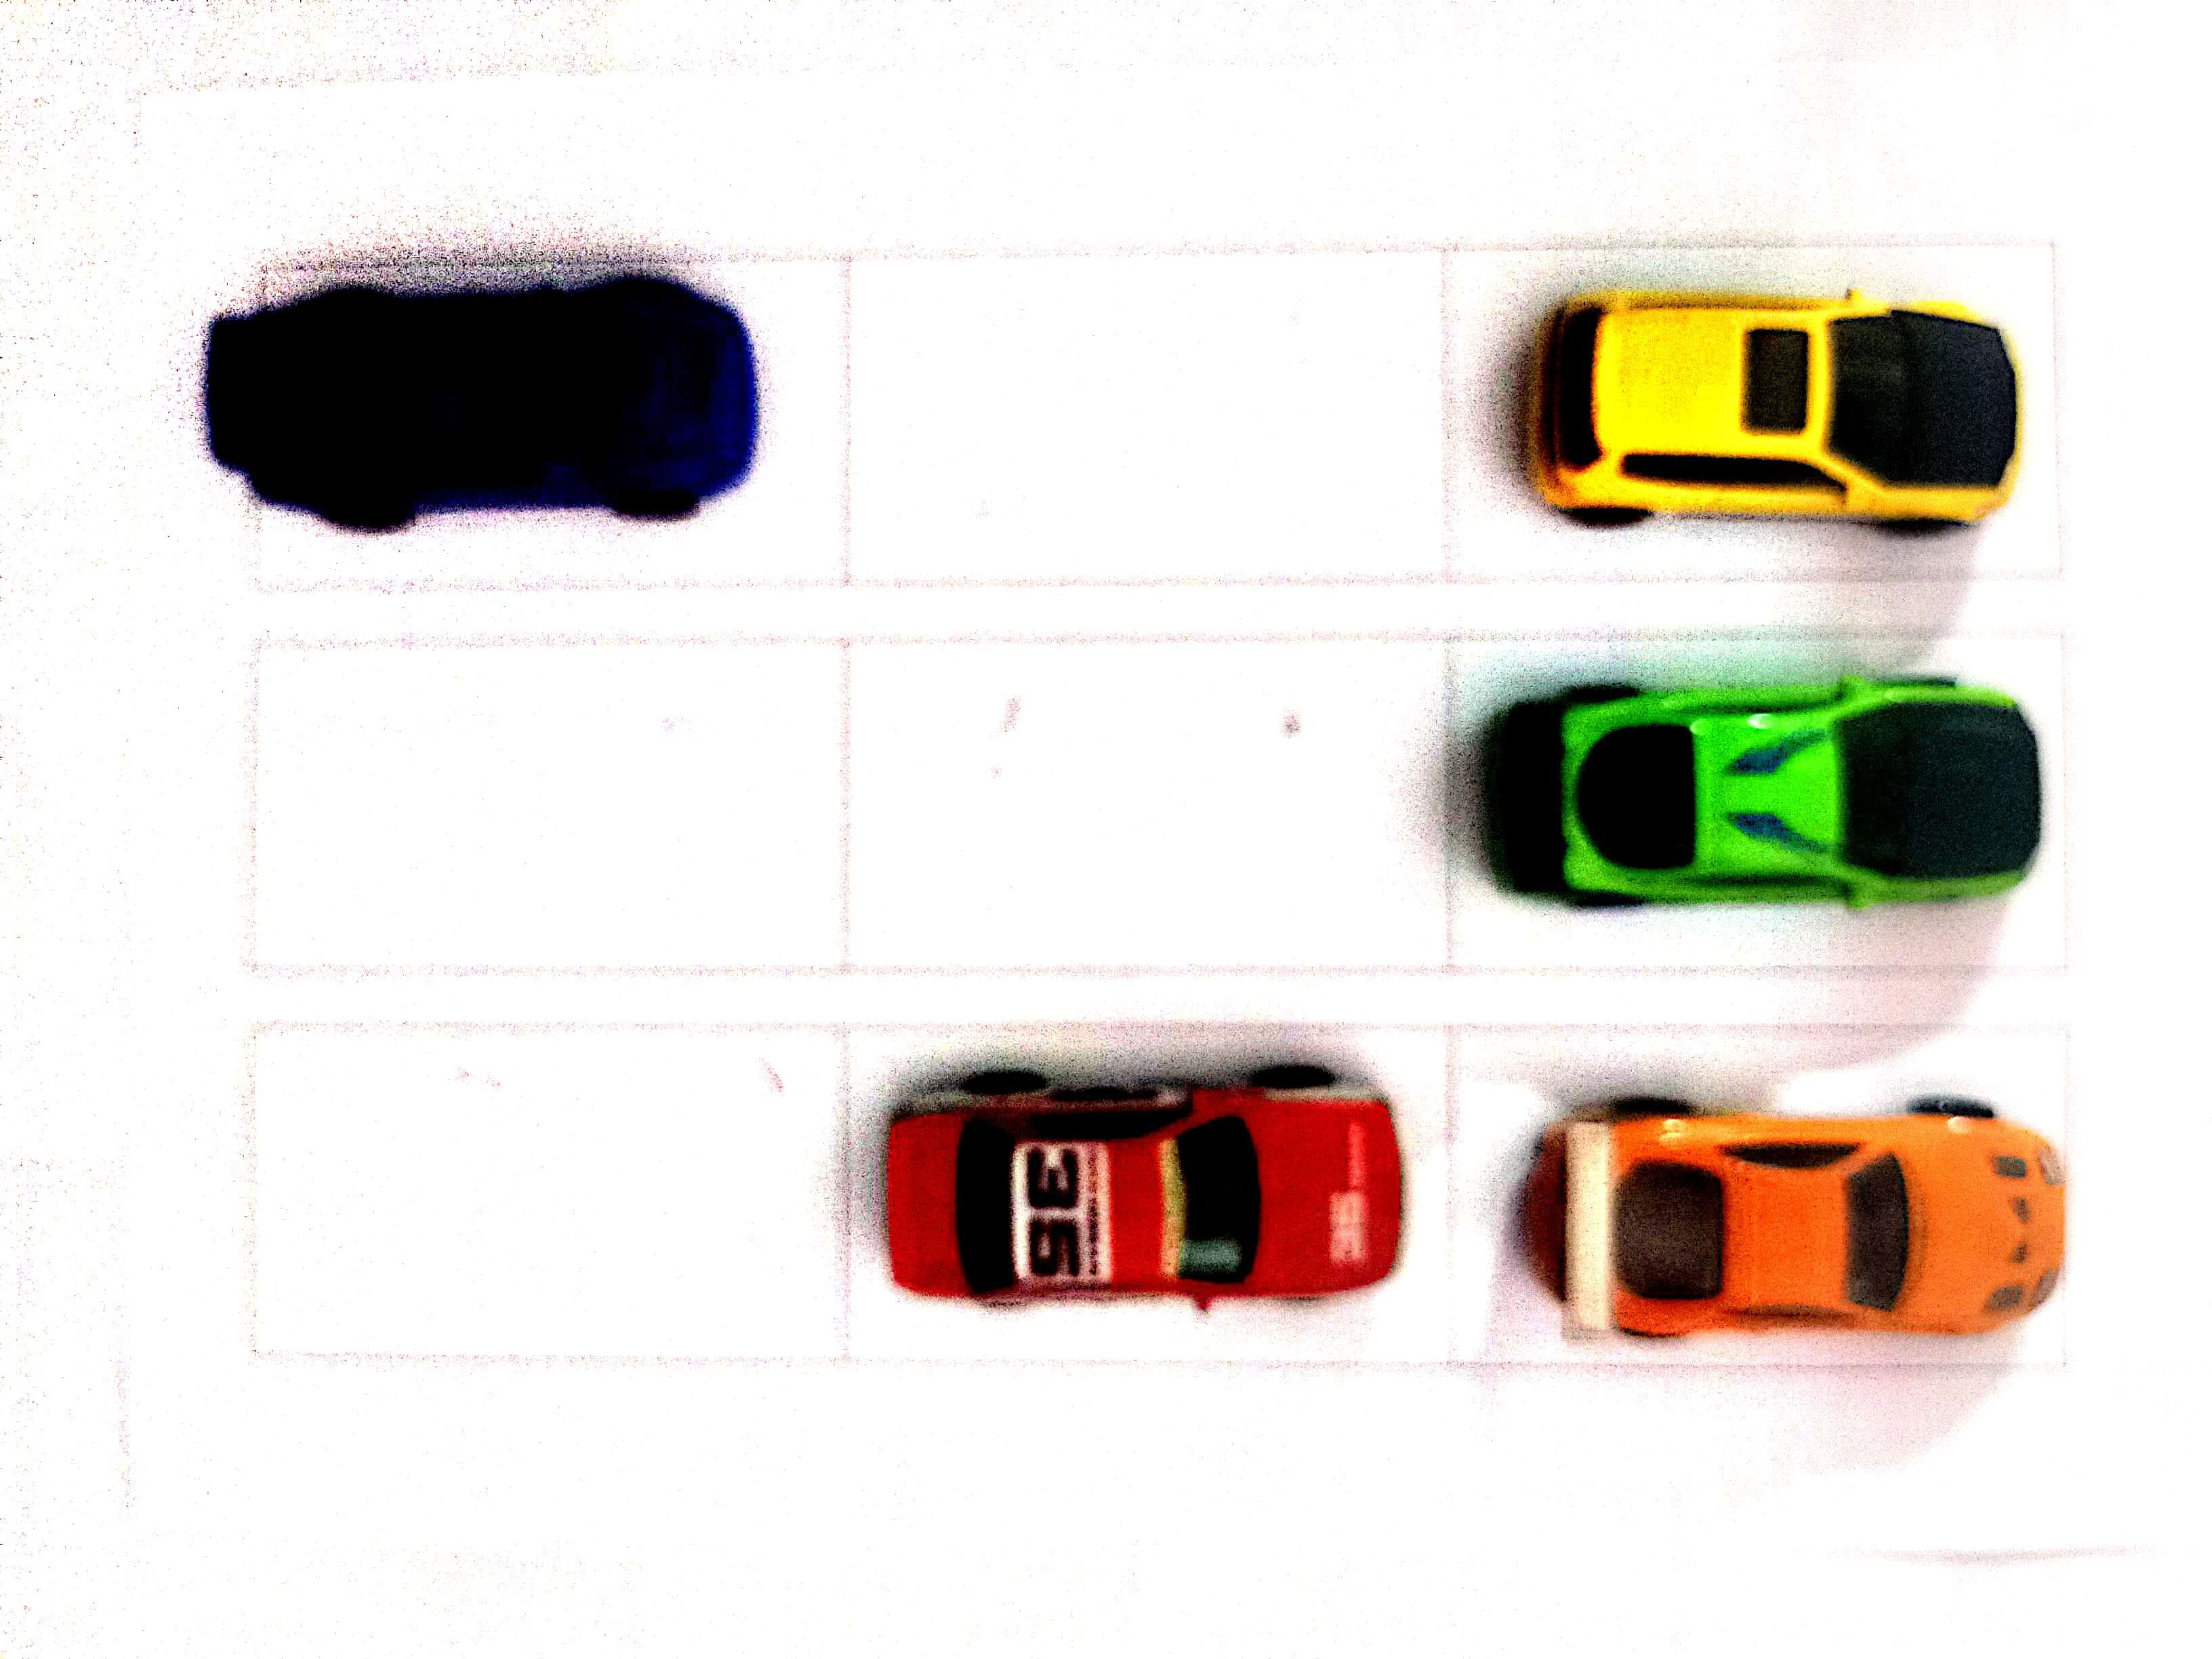Busy: (843, 1023, 1451, 1366), (1454, 1026, 2055, 1366), (1458, 640, 2062, 972), (1442, 244, 2045, 575), (244, 263, 840, 580)
Free: (836, 253, 1442, 580), (840, 641, 1454, 964), (247, 633, 843, 962), (253, 1032, 845, 1354)
